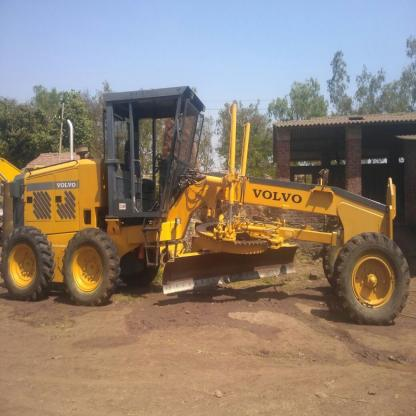bull_dozer/loader/grader: (4, 76, 415, 326)
